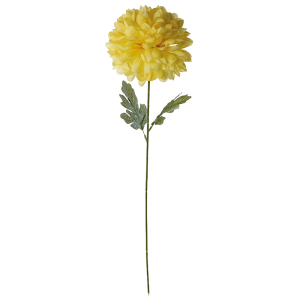dandelion: (103, 4, 197, 83)
